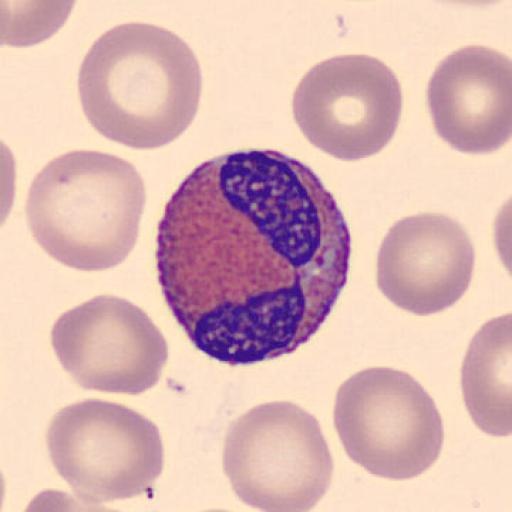RBC: (77, 20, 203, 152), (23, 147, 148, 276), (331, 365, 446, 483), (44, 396, 166, 505), (220, 398, 336, 512), (290, 52, 404, 164), (48, 293, 170, 397), (374, 210, 476, 318), (424, 42, 512, 156), (459, 310, 512, 440), (2, 0, 80, 48), (19, 479, 131, 512), (19, 486, 110, 512), (490, 189, 512, 287), (0, 136, 20, 234), (416, 0, 512, 17), (419, 0, 512, 11), (178, 505, 252, 512)
WBC: (153, 154, 352, 368)
